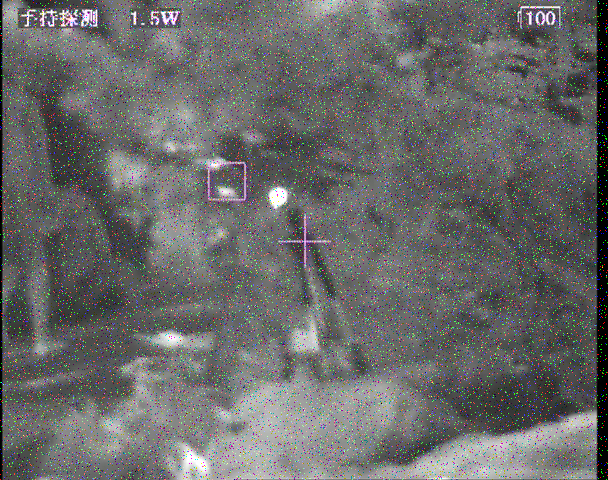my: (267, 186, 288, 208)
